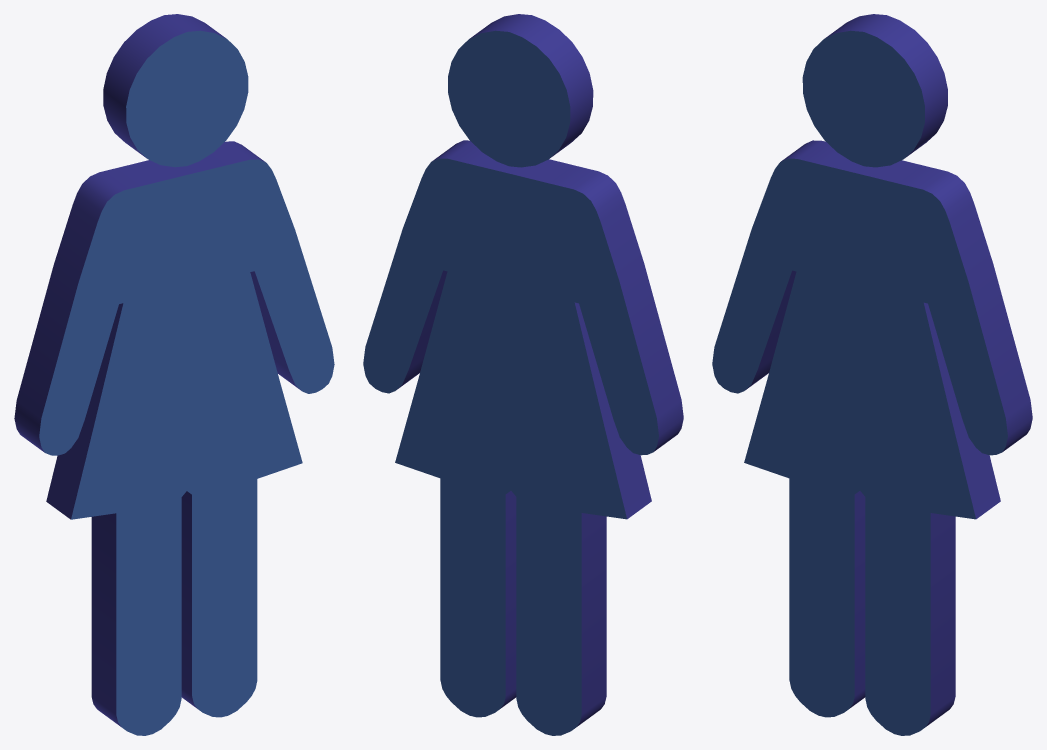
Rendered from Female Dummy.fbx.
3 views of the same model, side by side, from view 1: azimuth 30°, elevation 25°; view 2: azimuth 150°, elevation 25°; view 3: azimuth 330°, elevation 25° (orthographic).
Visible parts, largest first — view 1: Female Dummy; view 2: Female Dummy; view 3: Female Dummy.
Part boxes in pixels (bbox=[...]): Female Dummy: bbox=[14, 14, 334, 735]; Female Dummy: bbox=[363, 14, 683, 735]; Female Dummy: bbox=[712, 14, 1032, 735].
Bounding box in the file's own units: 88.72 × 199 × 12.86.
